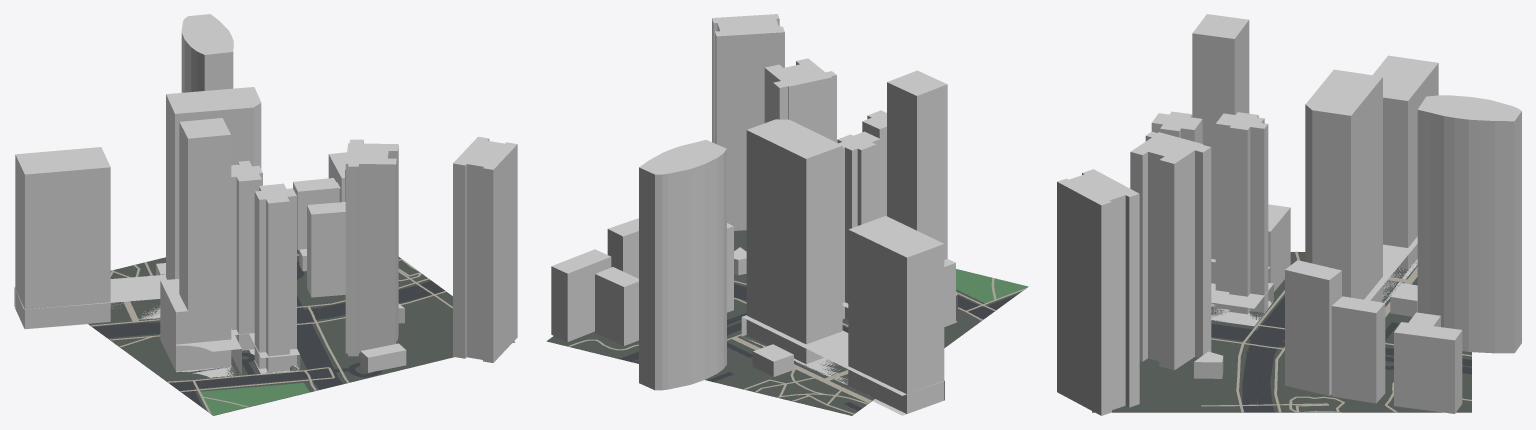
File: tile_005_005.glb
The picture shows the model from 3 angles, left to right: view 1: azimuth 30°, elevation 25°; view 2: azimuth 150°, elevation 25°; view 3: azimuth 270°, elevation 25°; orthographic projection. The views are drawn at different scales.
Parts seen in each view (by area): view 1: tile_005_005_buildings_neutral, tile_005_005_buildings_residential, tile_005_005_ground, tile_005_005_roads, tile_005_005_buildings_detailed_m23:lite_538341464, tile_005_005_paths, tile_005_005_buildings_office, tile_005_005_open_spaces; view 2: tile_005_005_buildings_neutral, tile_005_005_buildings_detailed_m23:lite_538341464, tile_005_005_buildings_residential, tile_005_005_ground, tile_005_005_buildings_office, tile_005_005_paths, tile_005_005_roads, tile_005_005_open_spaces, tile_005_005_buildings_retail; view 3: tile_005_005_buildings_neutral, tile_005_005_buildings_residential, tile_005_005_buildings_detailed_m23:lite_538341464, tile_005_005_ground, tile_005_005_roads, tile_005_005_paths, tile_005_005_buildings_office, tile_005_005_buildings_retail.
Part boxes in pixels (bbox=[...]): tile_005_005_buildings_neutral: bbox=[15, 87, 406, 372]; tile_005_005_buildings_residential: bbox=[176, 136, 517, 377]; tile_005_005_ground: bbox=[88, 249, 514, 415]; tile_005_005_roads: bbox=[93, 261, 444, 407]; tile_005_005_buildings_detailed_m23:lite_538341464: bbox=[181, 14, 233, 92]; tile_005_005_paths: bbox=[90, 254, 452, 413]; tile_005_005_buildings_office: bbox=[14, 274, 166, 329]; tile_005_005_open_spaces: bbox=[201, 383, 309, 415]; tile_005_005_buildings_neutral: bbox=[551, 70, 955, 413]; tile_005_005_buildings_detailed_m23:lite_538341464: bbox=[639, 140, 726, 390]; tile_005_005_buildings_residential: bbox=[712, 14, 957, 324]; tile_005_005_ground: bbox=[546, 230, 1028, 415]; tile_005_005_buildings_office: bbox=[741, 315, 944, 415]; tile_005_005_paths: bbox=[568, 277, 1025, 414]; tile_005_005_roads: bbox=[619, 284, 1017, 410]; tile_005_005_open_spaces: bbox=[956, 269, 1027, 303]; tile_005_005_buildings_retail: bbox=[752, 344, 793, 376]; tile_005_005_buildings_neutral: bbox=[1151, 14, 1462, 413]; tile_005_005_buildings_residential: bbox=[1057, 131, 1273, 415]; tile_005_005_buildings_detailed_m23:lite_538341464: bbox=[1417, 95, 1521, 353]; tile_005_005_ground: bbox=[1092, 252, 1471, 412]; tile_005_005_roads: bbox=[1211, 296, 1471, 412]; tile_005_005_paths: bbox=[1201, 251, 1471, 412]; tile_005_005_buildings_office: bbox=[1364, 236, 1417, 302]; tile_005_005_buildings_retail: bbox=[1390, 283, 1417, 316].
Bounding box in the file's own units: 300 × 184 × 306.
